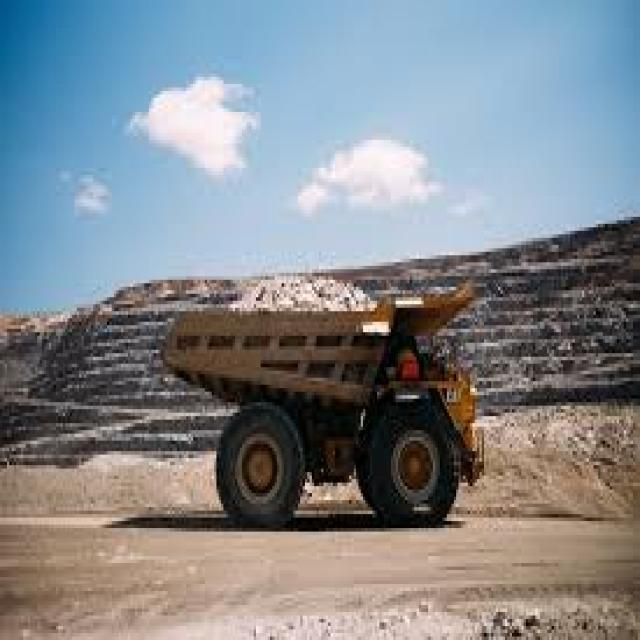dump_truck: (149, 269, 500, 539)
